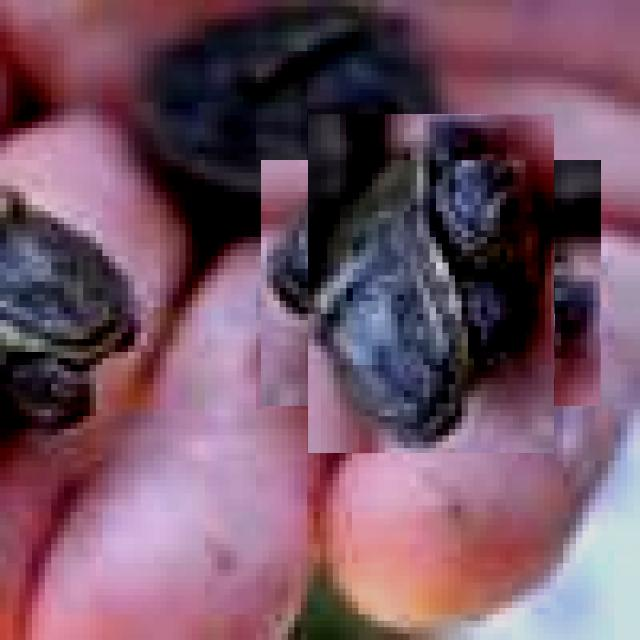Sea turtle: (284, 136, 578, 430)
